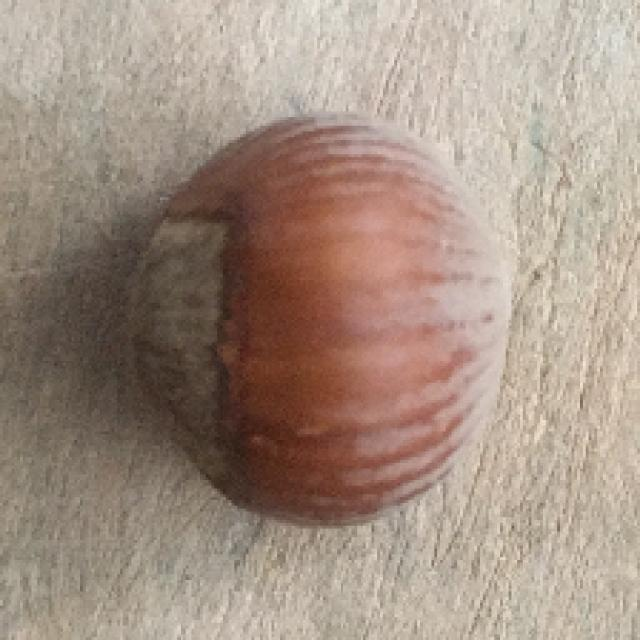QualityHazelnut: (123, 104, 522, 530)
